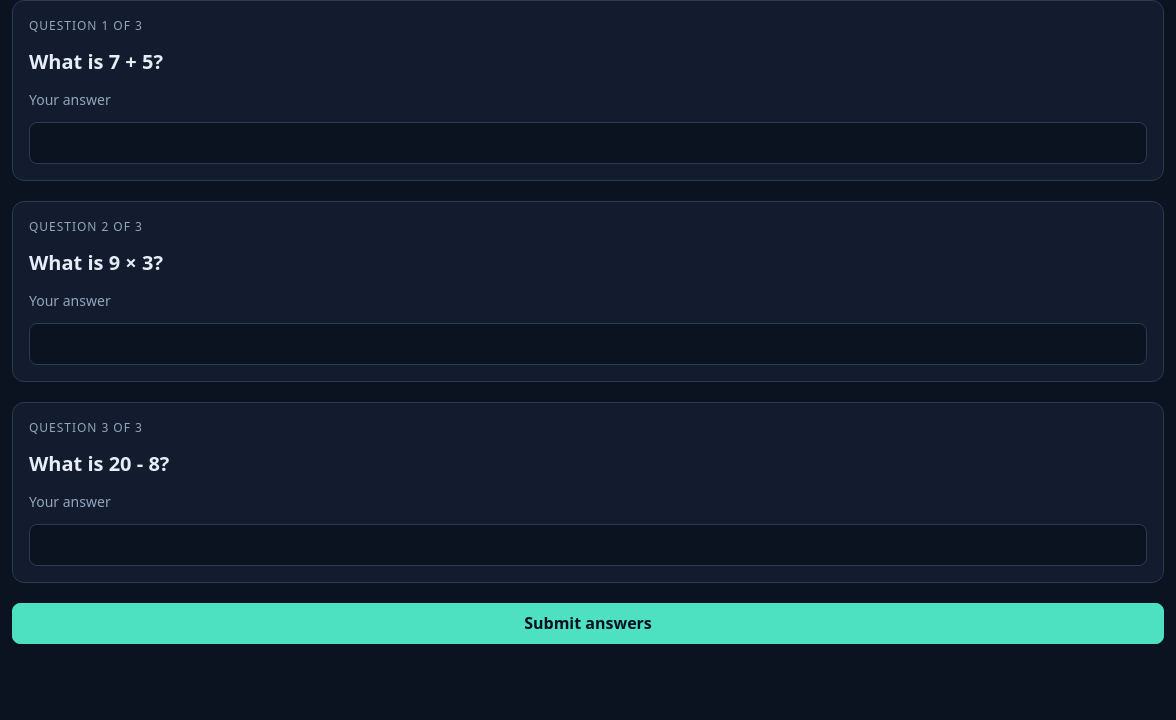
Scenario: QuestionForm › renders results from the submission response without waiting for MQTT or ACK
Check: the heading "What is 7 + 5?" is shown, box [29,47,163,77]
Type "12" into the field labelled "Your answer" below "What is 7 + 5?".
click(588, 143); type("12")  # box [29,122,1147,164]
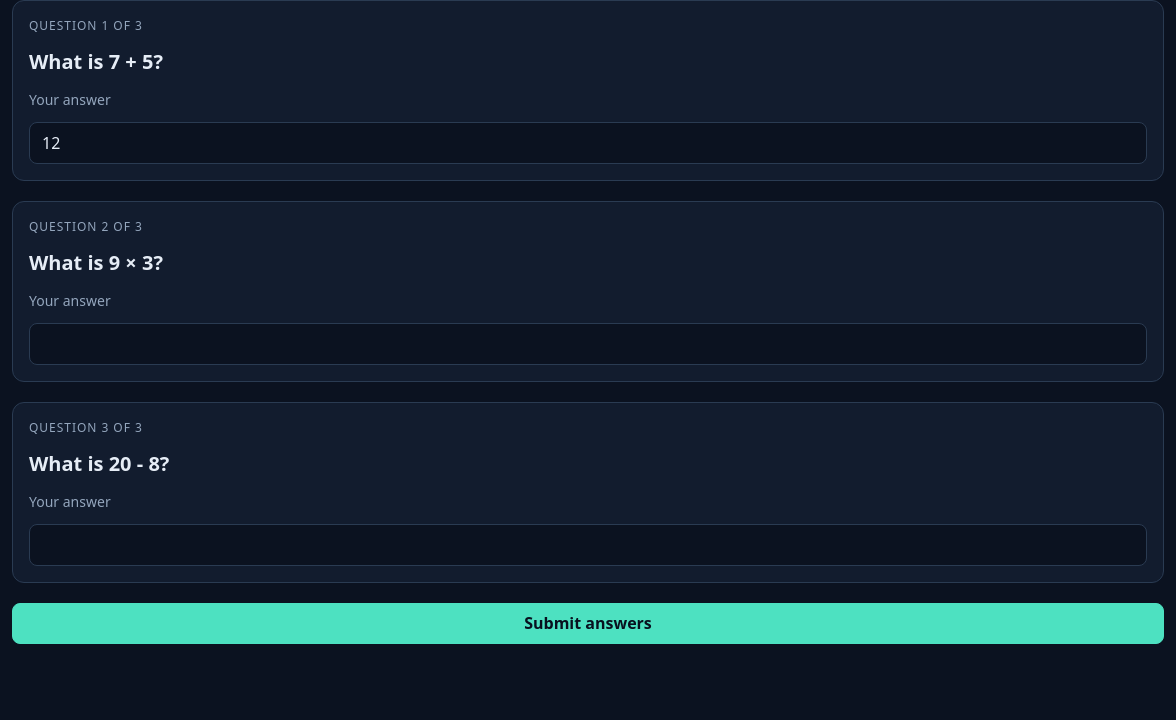
Type "27" into the field labelled "Your answer" below "What is 9 × 3?".
click(588, 344); type("27")  # box [29,323,1147,365]
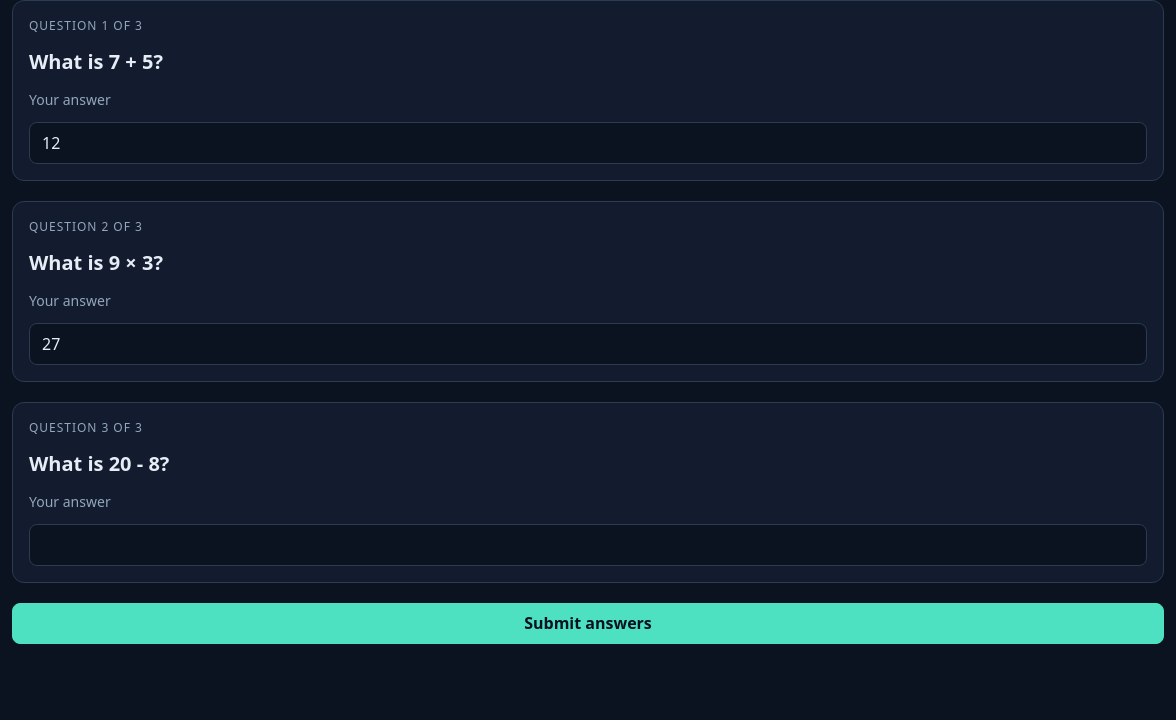
Type "12" into the field labelled "Your answer" below "What is 20 - 8?".
click(588, 545); type("12")  # box [29,524,1147,566]
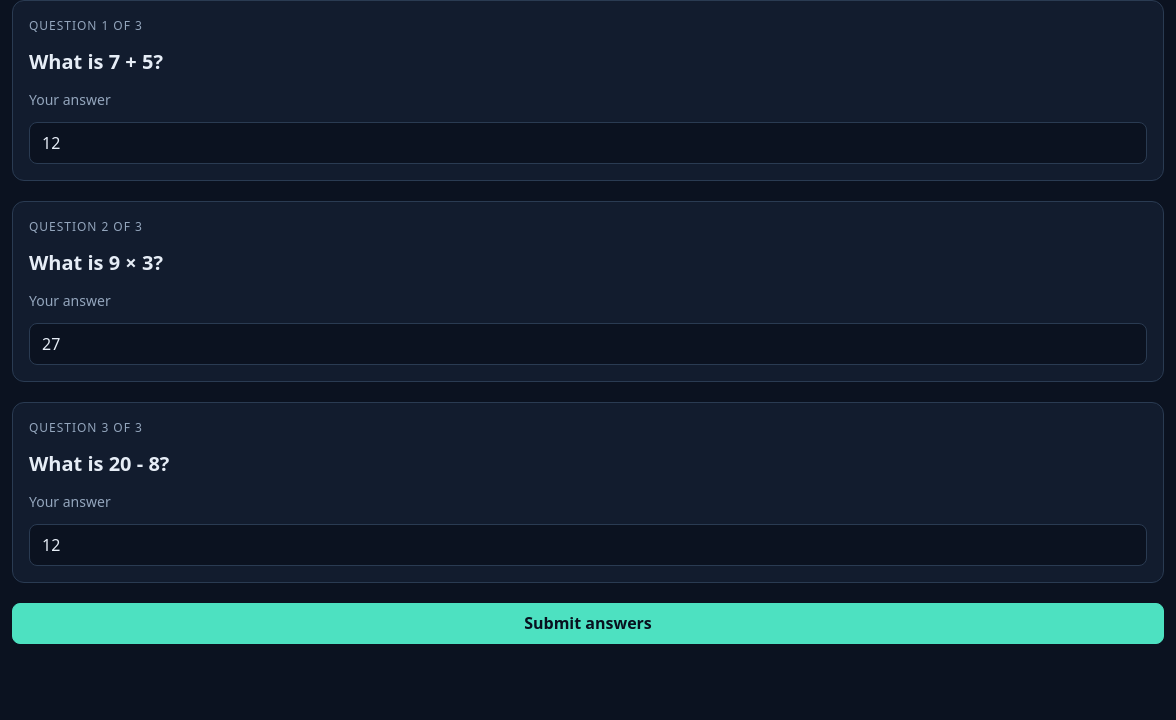
Click the button "Submit answers".
click(588, 624)  # box [12,603,1164,644]
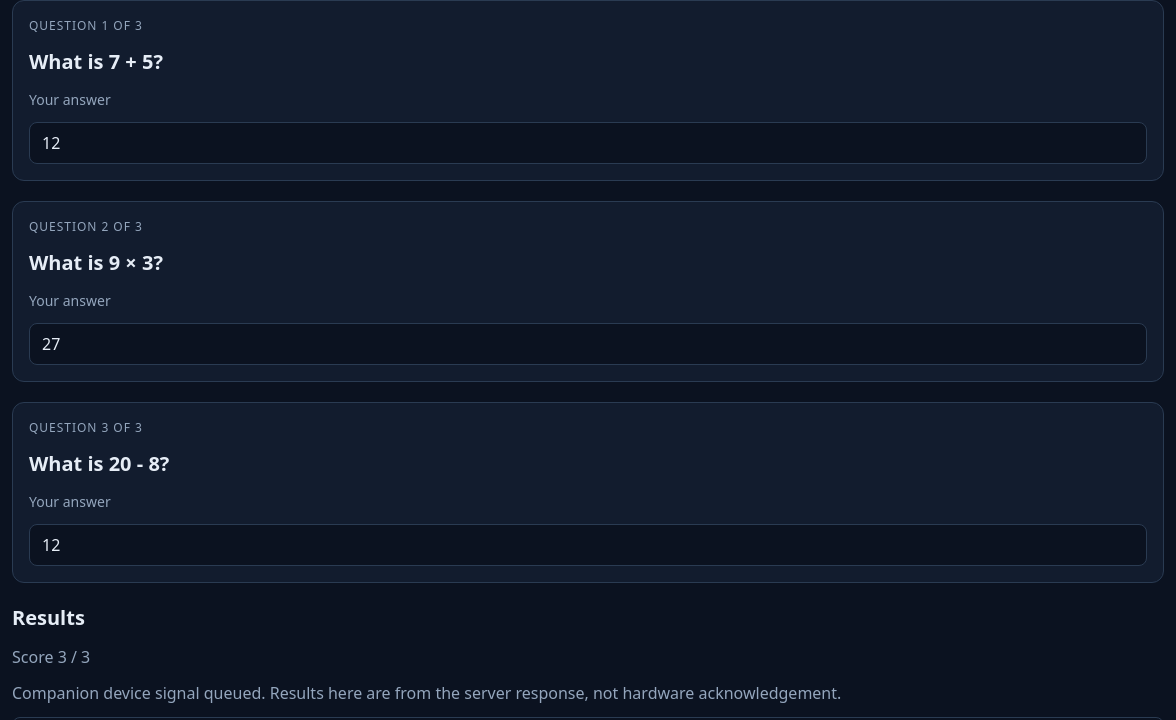
Check: the text "Score 3 / 3" is shown, box [12,645,90,669]
Check: the text with test id "device-delivery-note" is shown, box [12,681,841,705]
